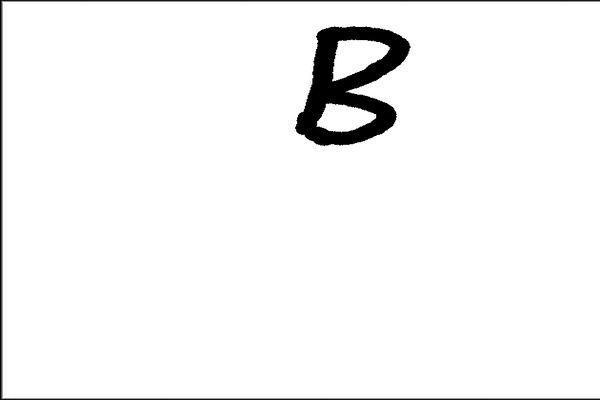B: (287, 18, 421, 154)
